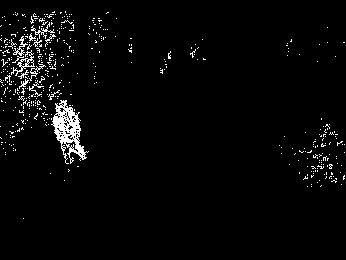person: (52, 100, 88, 166)
